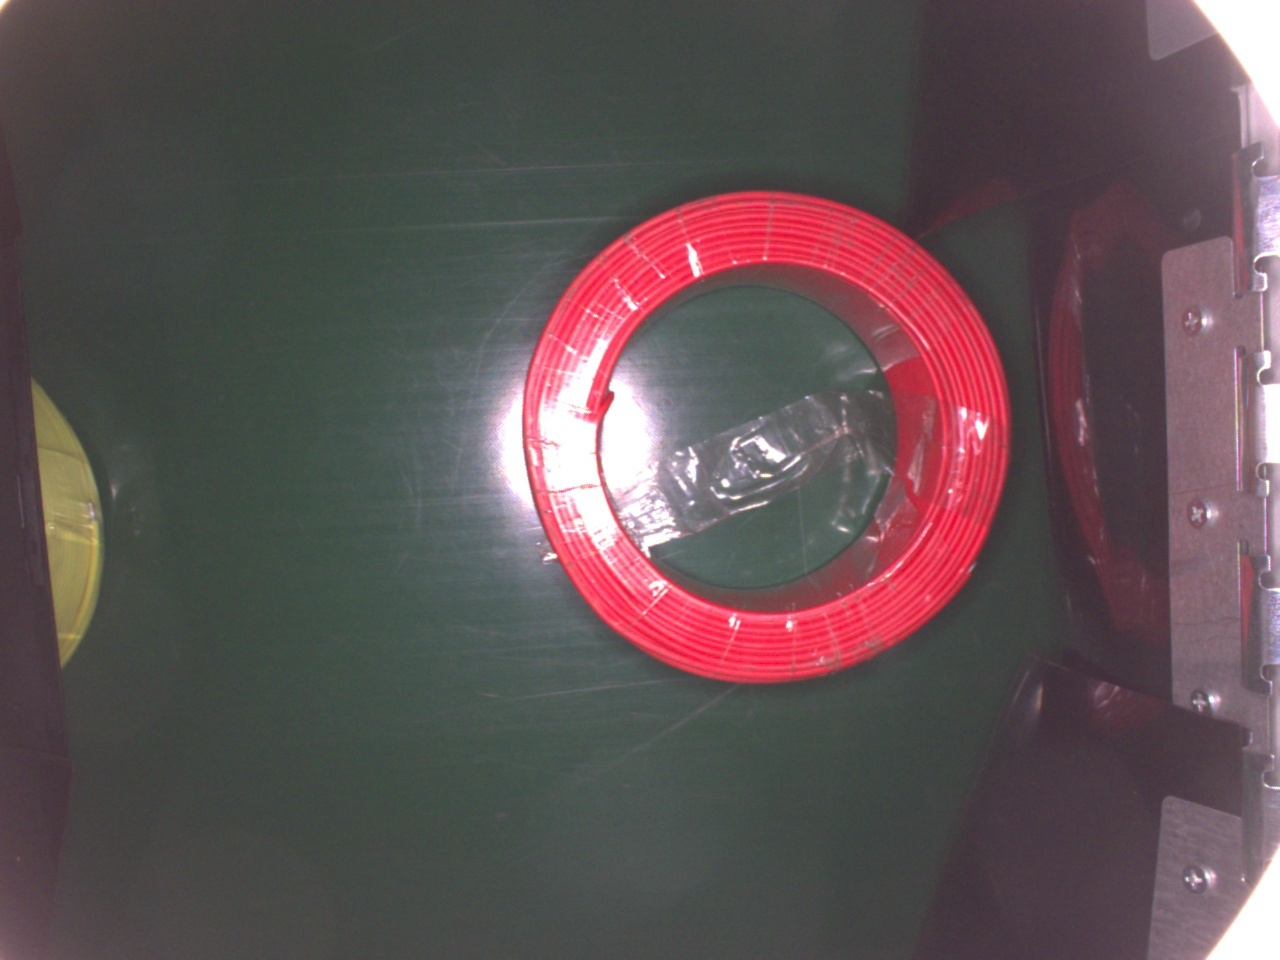red: (523, 181, 1012, 686)
